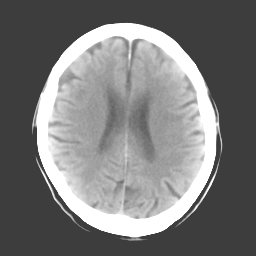ischemic: (151, 120, 162, 139)
